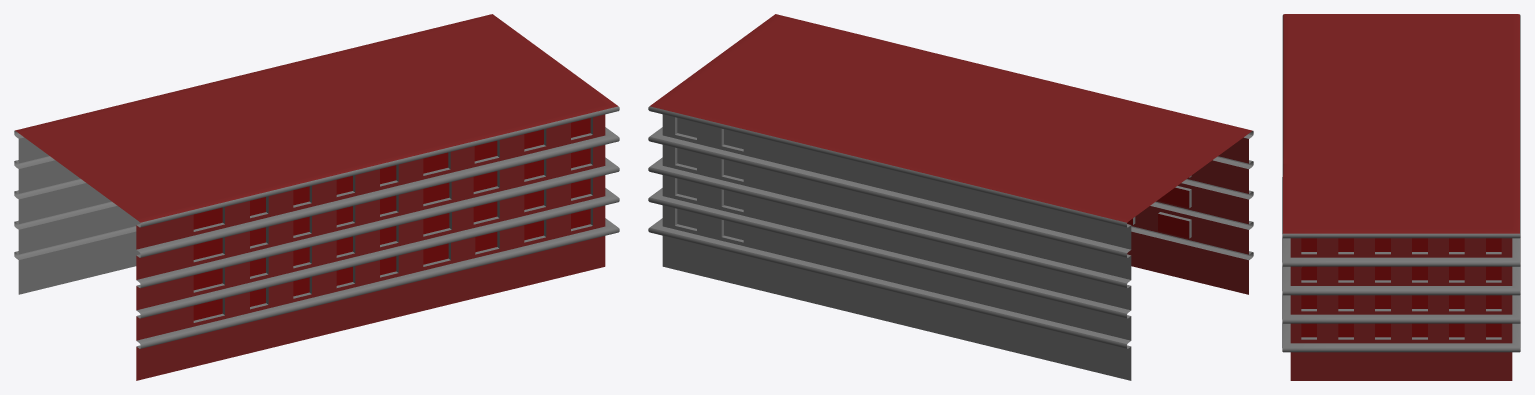
Rendered from edificio 2.fbx.
3 views of the same model, side by side, from view 1: azimuth 30°, elevation 25°; view 2: azimuth 150°, elevation 25°; view 3: azimuth 270°, elevation 25° (orthographic). The views are drawn at different scales.
Visible parts, largest first — view 1: EdificioEntradaTrasera; view 2: EdificioEntradaTrasera; view 3: EdificioEntradaTrasera.
Boxes of the visible parts, x1,y1,x2,y2 form: EdificioEntradaTrasera: (14, 14, 619, 380); EdificioEntradaTrasera: (648, 14, 1253, 380); EdificioEntradaTrasera: (1282, 14, 1520, 380).
Bounding box in the file's own units: 6259 × 2018 × 2871.
